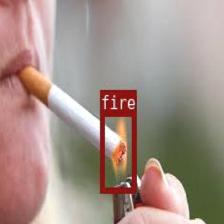fire: (99, 109, 135, 192)
